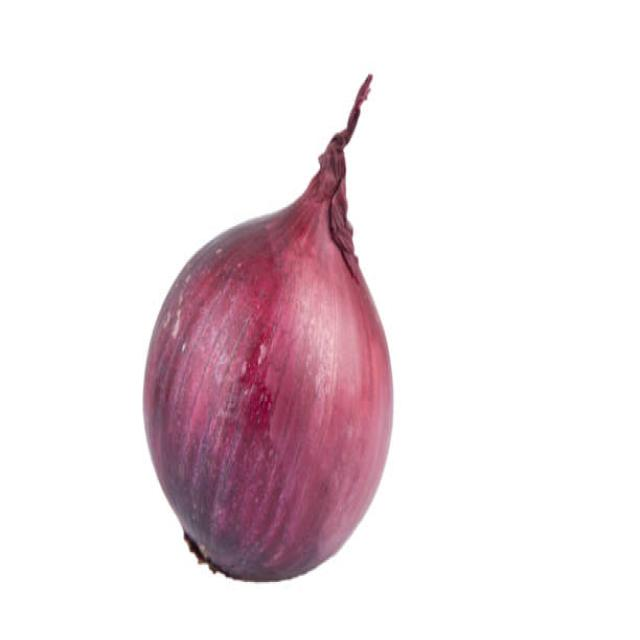onion: (141, 192, 397, 589)
